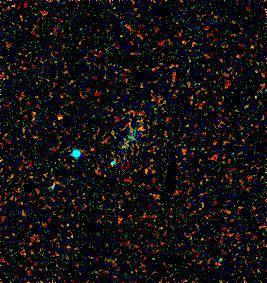star: (46, 103, 76, 133)
